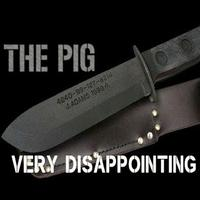knife: (2, 31, 198, 156)
